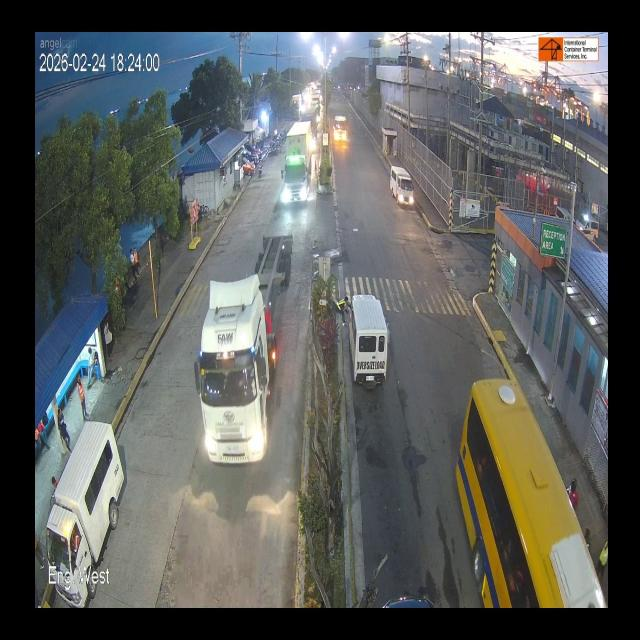bus: (451, 371, 606, 605)
car: (38, 423, 128, 563), (354, 292, 390, 400), (388, 163, 414, 210)
truck: (199, 236, 311, 481), (285, 108, 316, 216), (330, 109, 349, 146), (289, 91, 302, 127)
